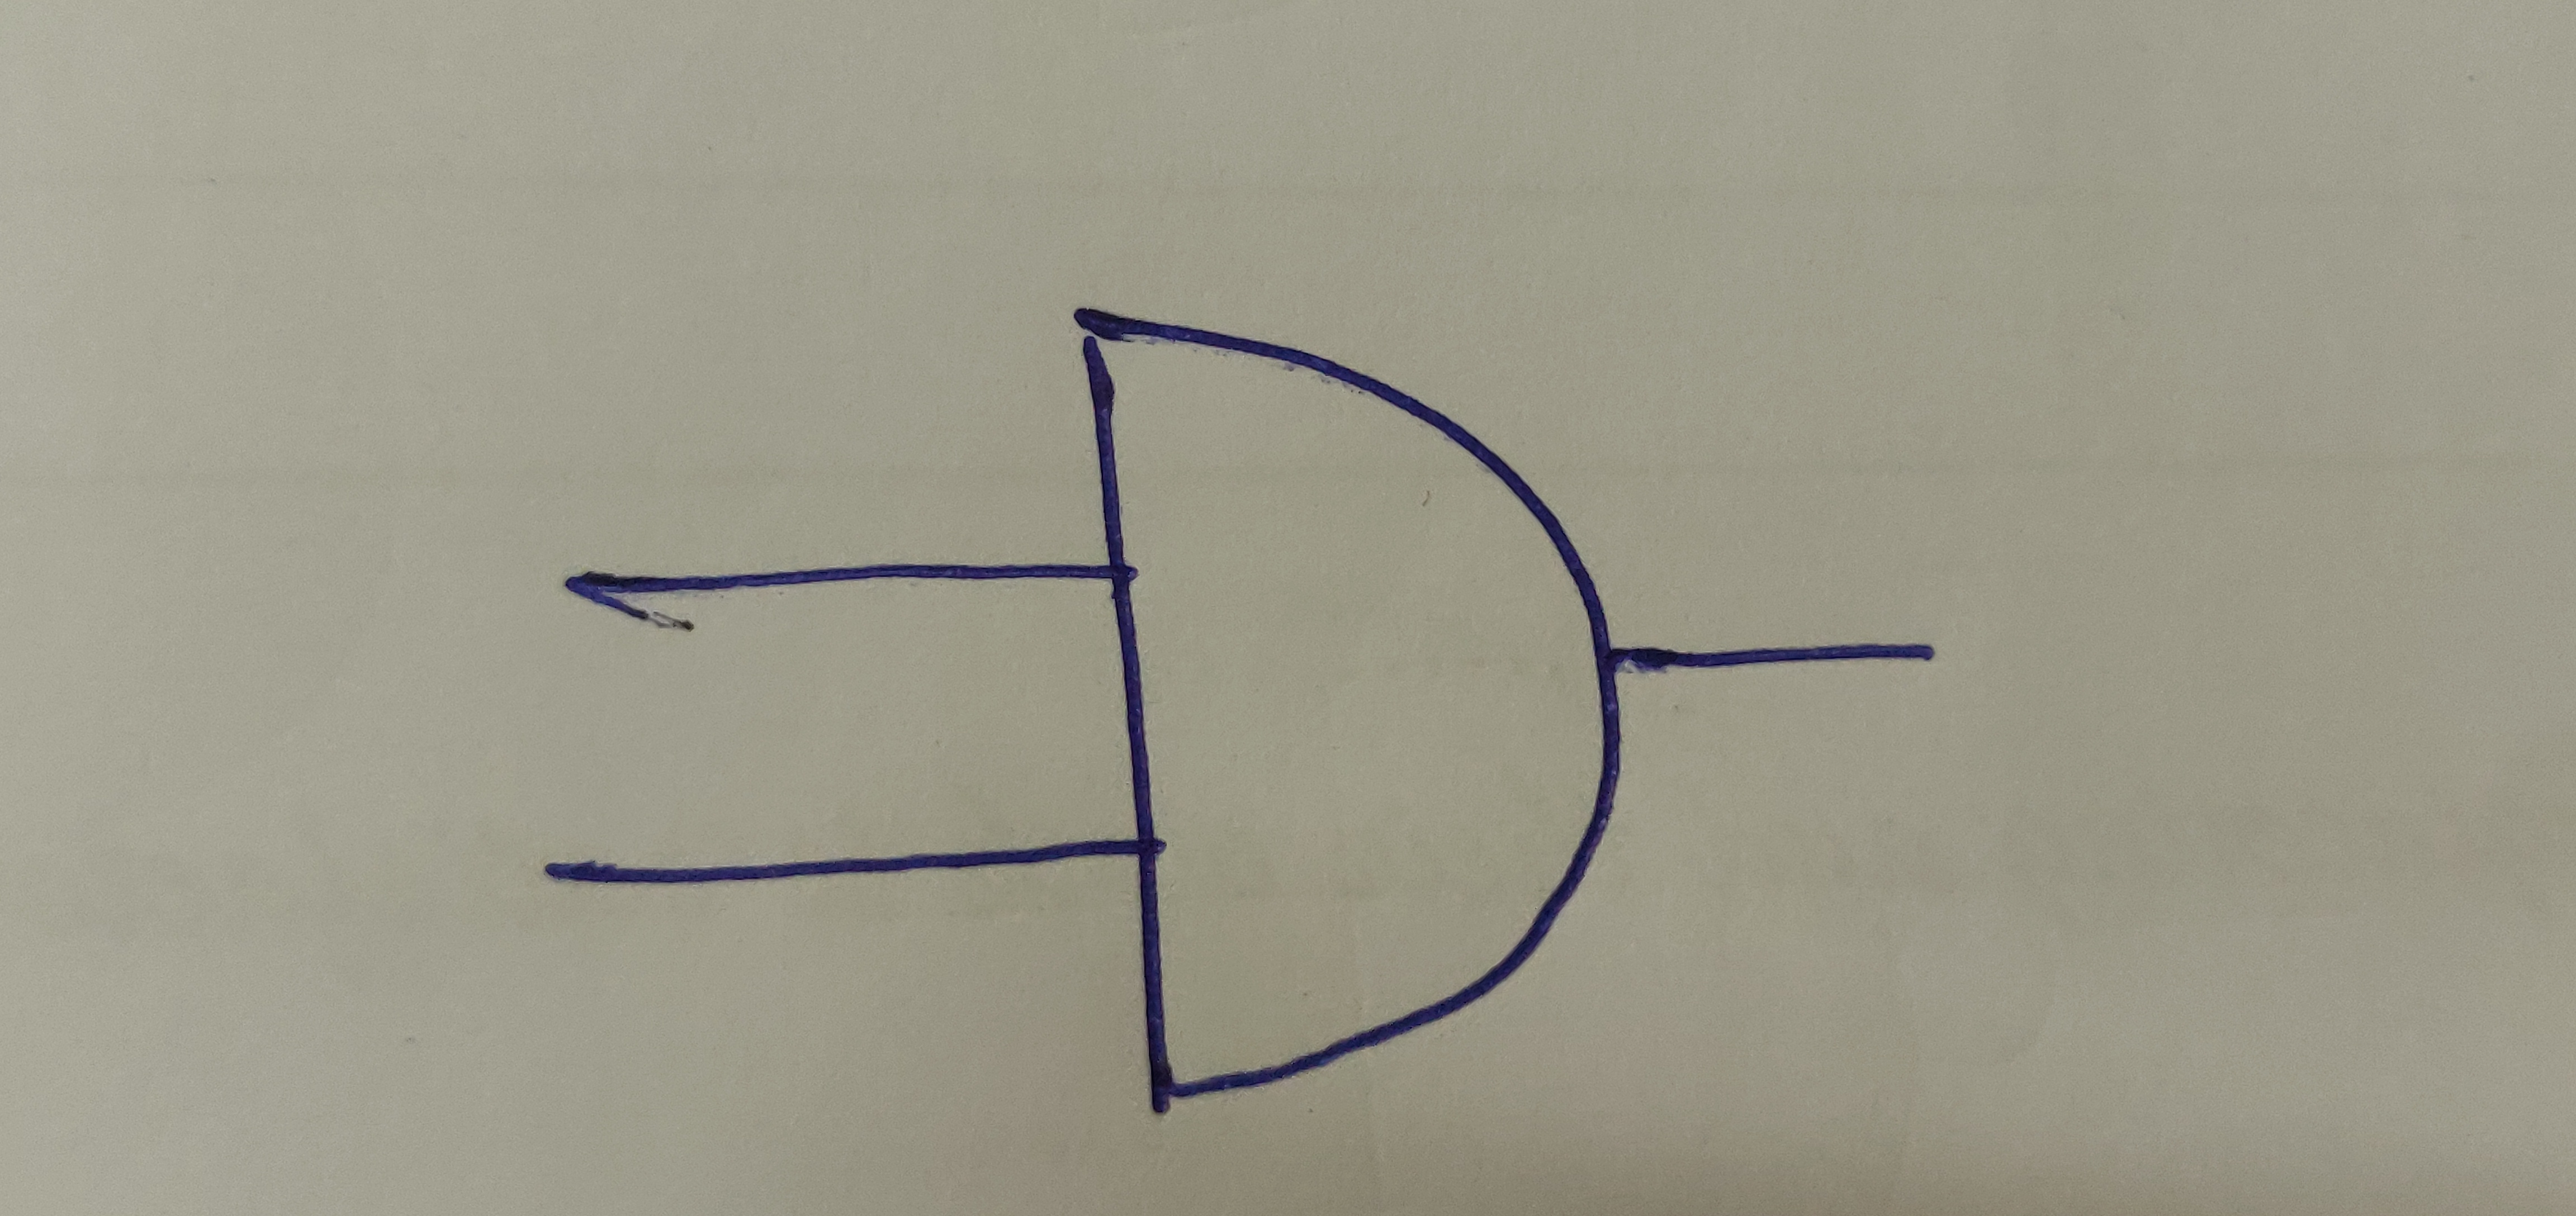and: (1071, 296, 1631, 1103)
